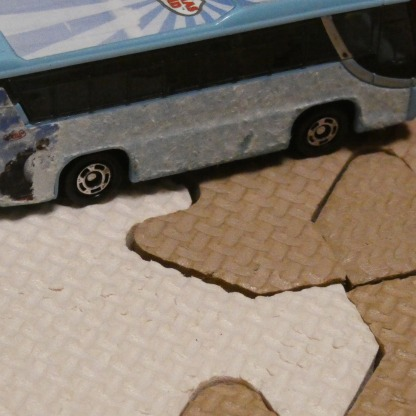car: (0, 0, 416, 207)
